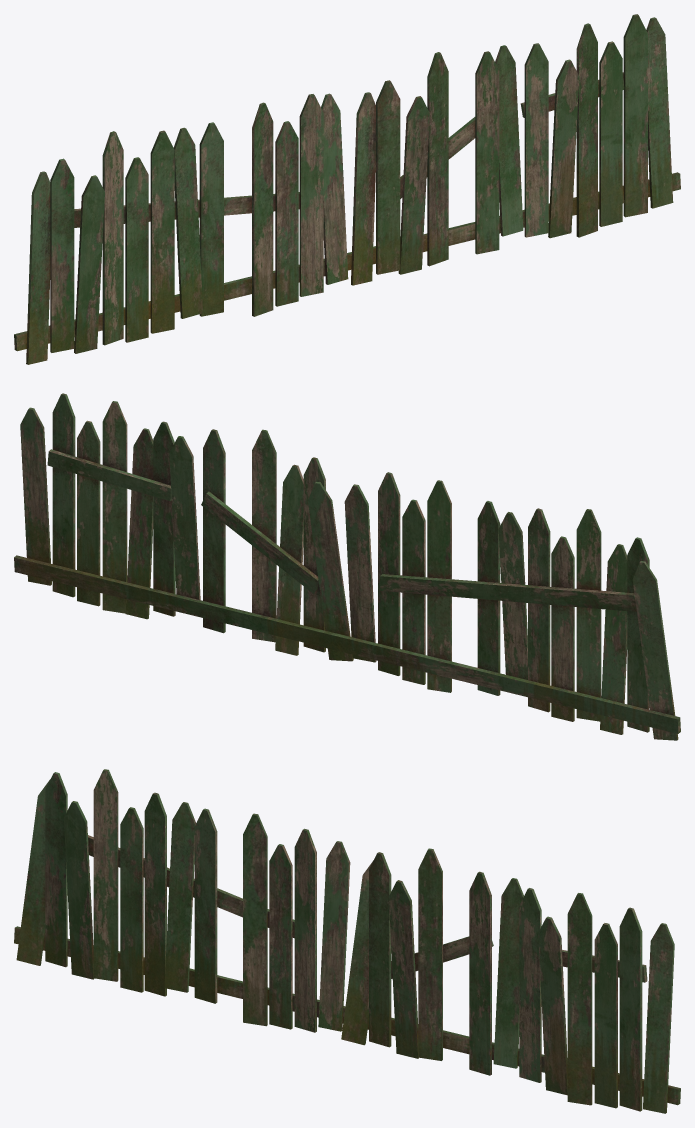
Rendered from old_fence.glb.
The picture shows the model from 3 angles, top to bottom: view 1: azimuth 30°, elevation 25°; view 2: azimuth 150°, elevation 25°; view 3: azimuth 330°, elevation 25°; orthographic projection.
Visible parts, largest first — view 1: Box006__0_5; view 2: Box006__0_5; view 3: Box006__0_5.
Part boxes in pixels (x1=…): Box006__0_5: x1=14, y1=14, x2=680, y2=364; Box006__0_5: x1=14, y1=393, x2=680, y2=740; Box006__0_5: x1=14, y1=769, x2=680, y2=1113.
Bounding box in the file's own units: 460 × 144 × 20.4.
Materials: 1 (1 with a texture image).
